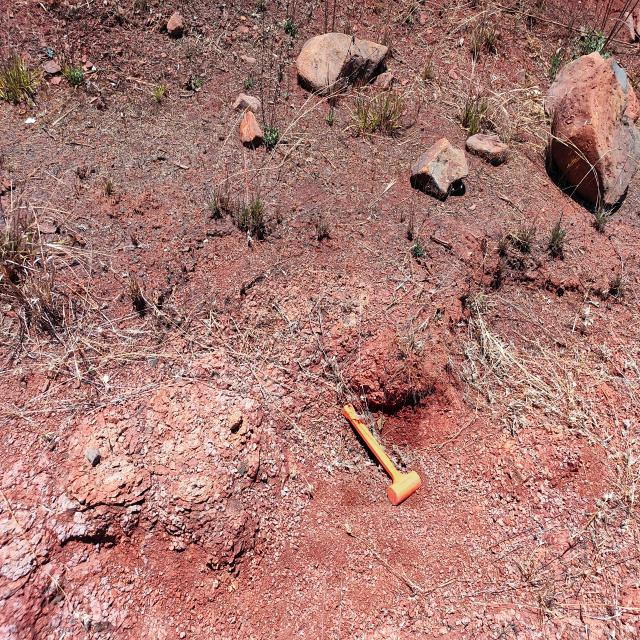Orange_hammer: (341, 402, 421, 506)
